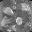people: (1, 16, 12, 27), (2, 7, 14, 16), (15, 17, 23, 25)
